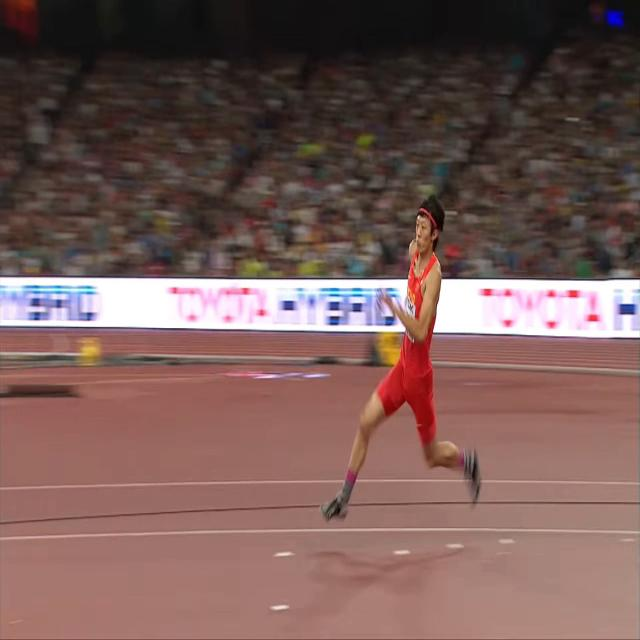run: (322, 197, 482, 520)
